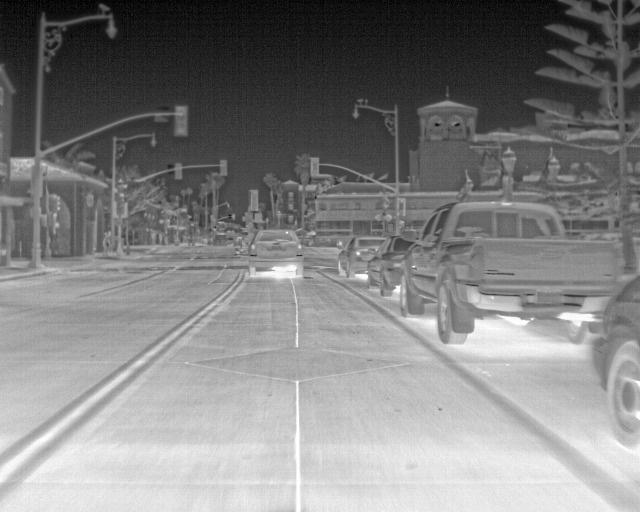bicycle: (393, 195, 630, 346), (590, 274, 636, 451), (246, 226, 304, 277), (334, 235, 394, 283), (368, 238, 413, 297)
